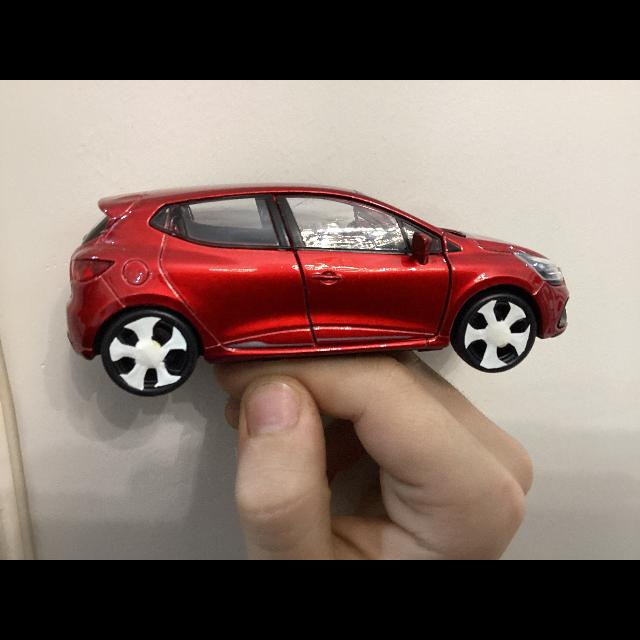Yanlis_Jant: (109, 314, 190, 392), (464, 298, 530, 370)
